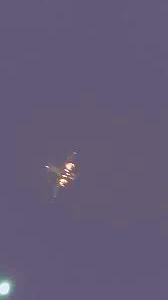Plane: (39, 148, 97, 210)
